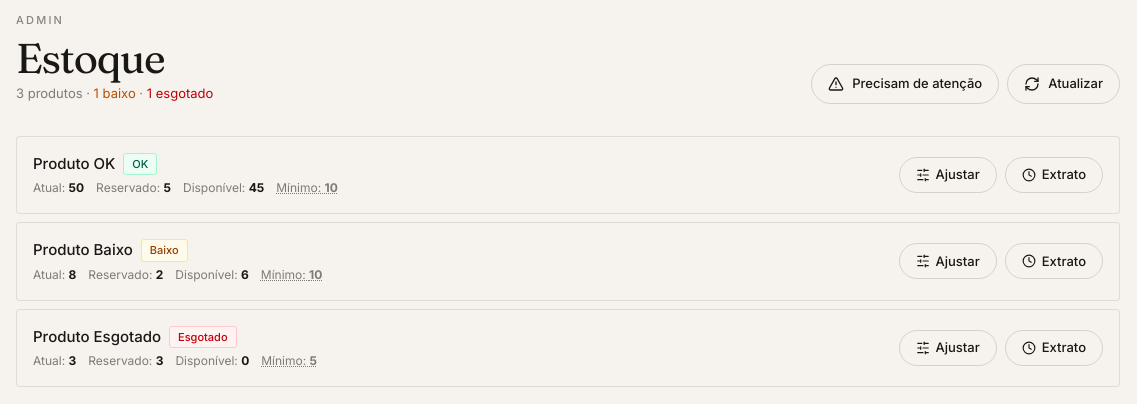
Test: StockManager — leitura (T5a) › filtro "Precisam de atenção" esconde produtos OK
Click the button "Precisam de atenção": (905, 84) [811,64,999,104]
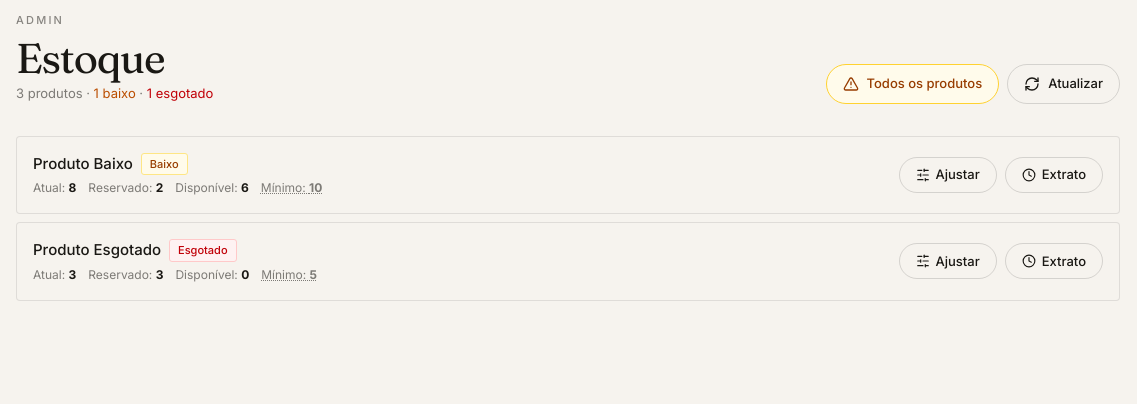
expect the text "Produto Baixo" is shown: met, box [33,153,133,175]
expect the text "Produto OK" is gone: met
